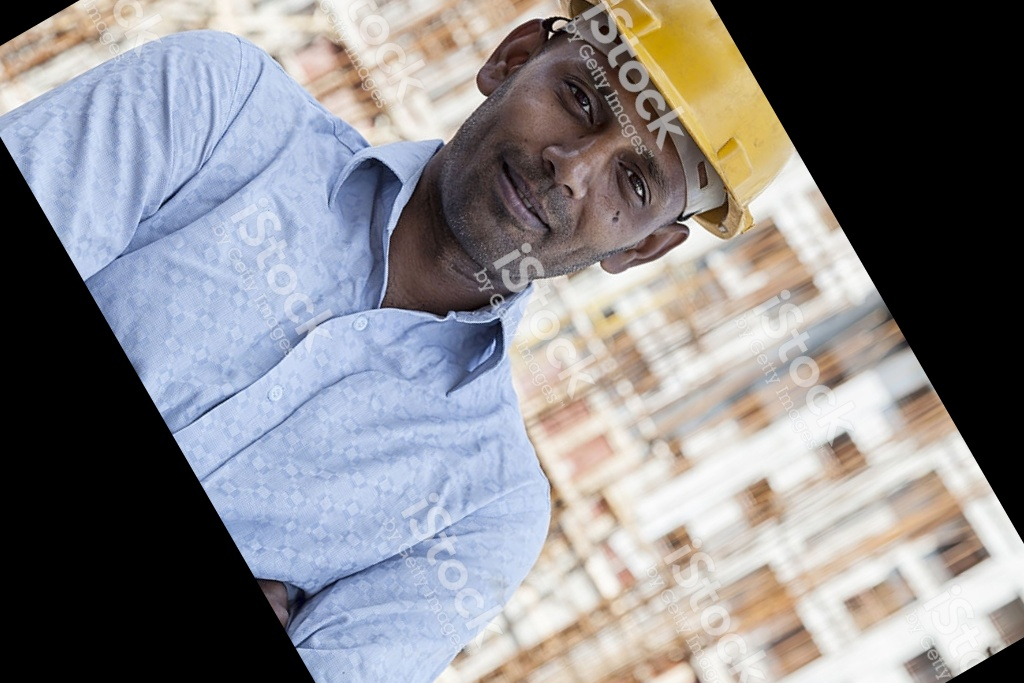NoJacket: (197, 3, 742, 571)
